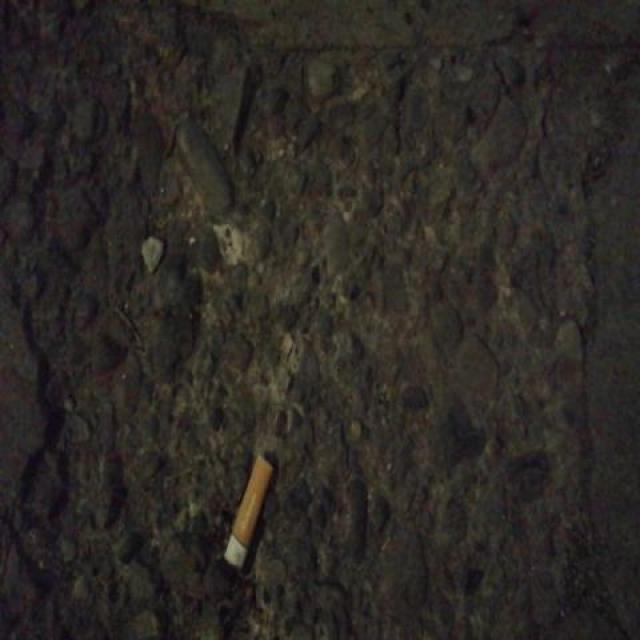non-organic waste: (221, 449, 274, 572)
